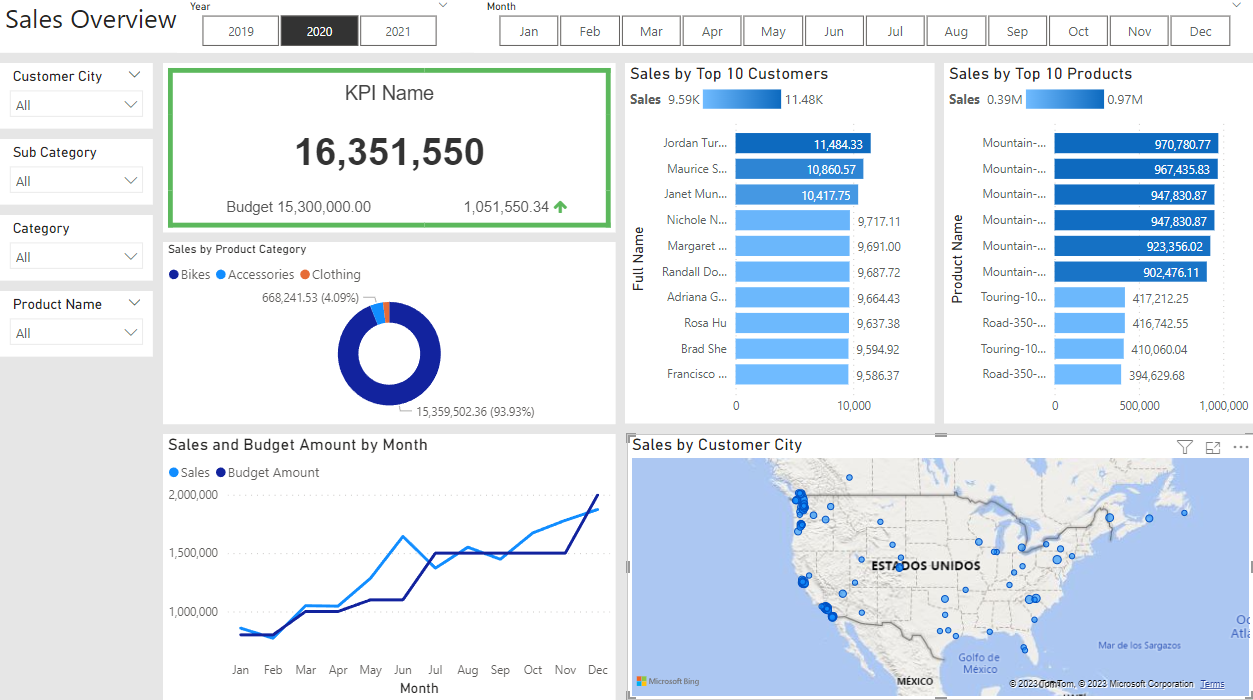

This screenshot's page, from the dashboard's own definition file:
{"tool":"powerbi","page":{"name":"Page 1","canvas":[1280,720],"ordinal":0},"visuals":[{"type":"textbox","box":[0,0,1280,59.4],"z":0},{"type":"slicer","fields":{"Values":["DIM_Costumers.Customer City"]},"box":[0,69.4,156.2,67.4],"z":1000},{"type":"slicer","fields":{"Values":["DIM_Products.Sub Category"]},"box":[0,147,156.2,67.4],"z":2000},{"type":"slicer","fields":{"Values":["DIM_Products.Product Category"]},"box":[0,224.6,156.2,67.4],"z":3000},{"type":"slicer","fields":{"Values":["DIM_Products.Product Name"]},"box":[0,302.1,156.2,67.4],"z":4000},{"type":"slicer","fields":{"Values":["DIM_Calendar.Year"]},"box":[180.7,0,288.9,59.2],"z":5000},{"type":"slicer","fields":{"Values":["DIM_Calendar.MonthShort"]},"box":[484.3,0,795.7,59.4],"z":6000},{"type":"BBED0A4D4D8D44CE93CF2DAFADEE466C","fields":{"actual":["FACT_InternetSales.Sales"],"target1":["Key Measures.Budget Amount"],"target2":["Key Measures.Sales - Budget"]},"box":[166.4,69.4,462.4,172.5],"z":7000},{"type":"donutChart","fields":{"Category":["DIM_Products.Product Category"],"Y":["Key Measures.Sales"]},"box":[166.4,252.1,462.4,185.8],"z":8000},{"type":"lineChart","fields":{"Y":["Key Measures.Sales","Key Measures.Budget Amount"],"Category":["DIM_Calendar.MonthShort"]},"box":[166.4,448.1,462.4,271.5],"z":9000},{"type":"barChart","title":"Sales by Top 10 Customers","fields":{"Y":["Key Measures.Sales"],"Category":["DIM_Costumers.Full Name"]},"box":[638,69.4,316.4,368.5],"z":10000},{"type":"barChart","title":"Sales by Top 10 Products","fields":{"Category":["DIM_Products.Product Name"],"Y":["Key Measures.Sales"]},"box":[963.6,69.4,316.4,368.5],"z":11000},{"type":"map","fields":{"Category":["DIM_Costumers.Customer City"],"Size":["Key Measures.Sales"]},"box":[640,448.1,640,271.5],"z":11001}]}

Visuals, with their boxes in screenshot pixels (x1, y1, x2, y2), scaled from the page's 1280x720 canvas onto the 1253x700 screenshot:
textbox: {"x1": 0, "y1": 0, "x2": 1252, "y2": 58}
slicer - DIM_Costumers.Customer City: {"x1": 0, "y1": 67, "x2": 153, "y2": 133}
slicer - DIM_Products.Sub Category: {"x1": 0, "y1": 143, "x2": 153, "y2": 208}
slicer - DIM_Products.Product Category: {"x1": 0, "y1": 218, "x2": 153, "y2": 284}
slicer - DIM_Products.Product Name: {"x1": 0, "y1": 294, "x2": 153, "y2": 359}
slicer - DIM_Calendar.Year: {"x1": 177, "y1": 0, "x2": 460, "y2": 58}
slicer - DIM_Calendar.MonthShort: {"x1": 474, "y1": 0, "x2": 1252, "y2": 58}
BBED0A4D4D8D44CE93CF2DAFADEE466C - FACT_InternetSales.Sales x Key Measures.Budget Amount: {"x1": 163, "y1": 67, "x2": 616, "y2": 235}
donutChart - DIM_Products.Product Category x Key Measures.Sales: {"x1": 163, "y1": 245, "x2": 616, "y2": 426}
lineChart - Key Measures.Sales x Key Measures.Budget Amount: {"x1": 163, "y1": 436, "x2": 616, "y2": 699}
"Sales by Top 10 Customers" barChart: {"x1": 625, "y1": 67, "x2": 934, "y2": 426}
"Sales by Top 10 Products" barChart: {"x1": 943, "y1": 67, "x2": 1252, "y2": 426}
map - DIM_Costumers.Customer City x Key Measures.Sales: {"x1": 626, "y1": 436, "x2": 1252, "y2": 699}
